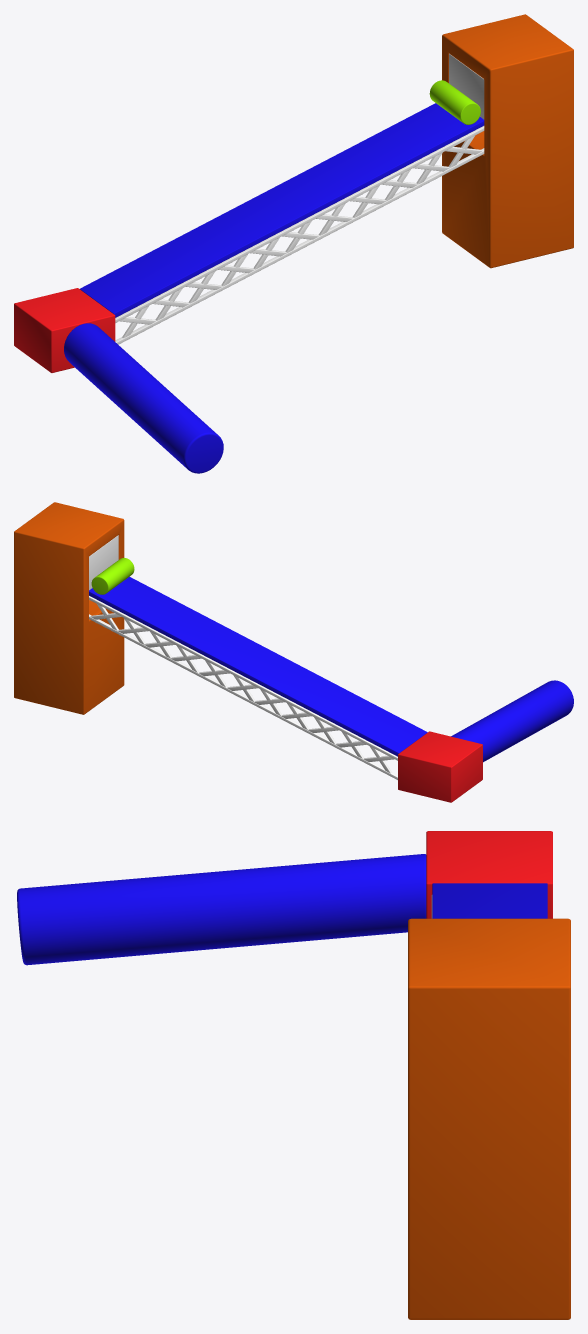
Rendered from rolling barrels.fbx.
3 views of the same model, one above another, from view 1: azimuth 30°, elevation 25°; view 2: azimuth 150°, elevation 25°; view 3: azimuth 270°, elevation 25° (orthographic). The views are drawn at different scales.
Visible parts, largest first — view 1: Cube, Cube.004, Cylinder, Cube.003, Cube.002, Cylinder.001, Cube.001; view 2: Cube, Cube.004, Cube.003, Cube.002, Cylinder, Cylinder.001, Cube.001; view 3: Cube, Cylinder, Cube.002, Cube.004.
Boxes of the visible parts, <box> form: Cube: <box>442,14,573,268</box>; Cube.004: <box>80,103,484,317</box>; Cylinder: <box>64,323,223,473</box>; Cube.003: <box>115,126,484,344</box>; Cube.002: <box>14,288,115,372</box>; Cylinder.001: <box>429,80,480,124</box>; Cube.001: <box>449,53,484,119</box>; Cube: <box>14,502,124,714</box>; Cube.004: <box>89,576,427,756</box>; Cube.003: <box>89,596,397,779</box>; Cube.002: <box>398,731,482,802</box>; Cylinder: <box>451,680,573,762</box>; Cylinder.001: <box>91,557,134,594</box>; Cube.001: <box>89,535,118,590</box>; Cube: <box>408,918,570,1319</box>; Cylinder: <box>17,854,426,965</box>; Cube.002: <box>426,831,552,918</box>; Cube.004: <box>432,883,547,918</box>.
Bounding box in the file's own units: 1926 × 789 × 1066.
